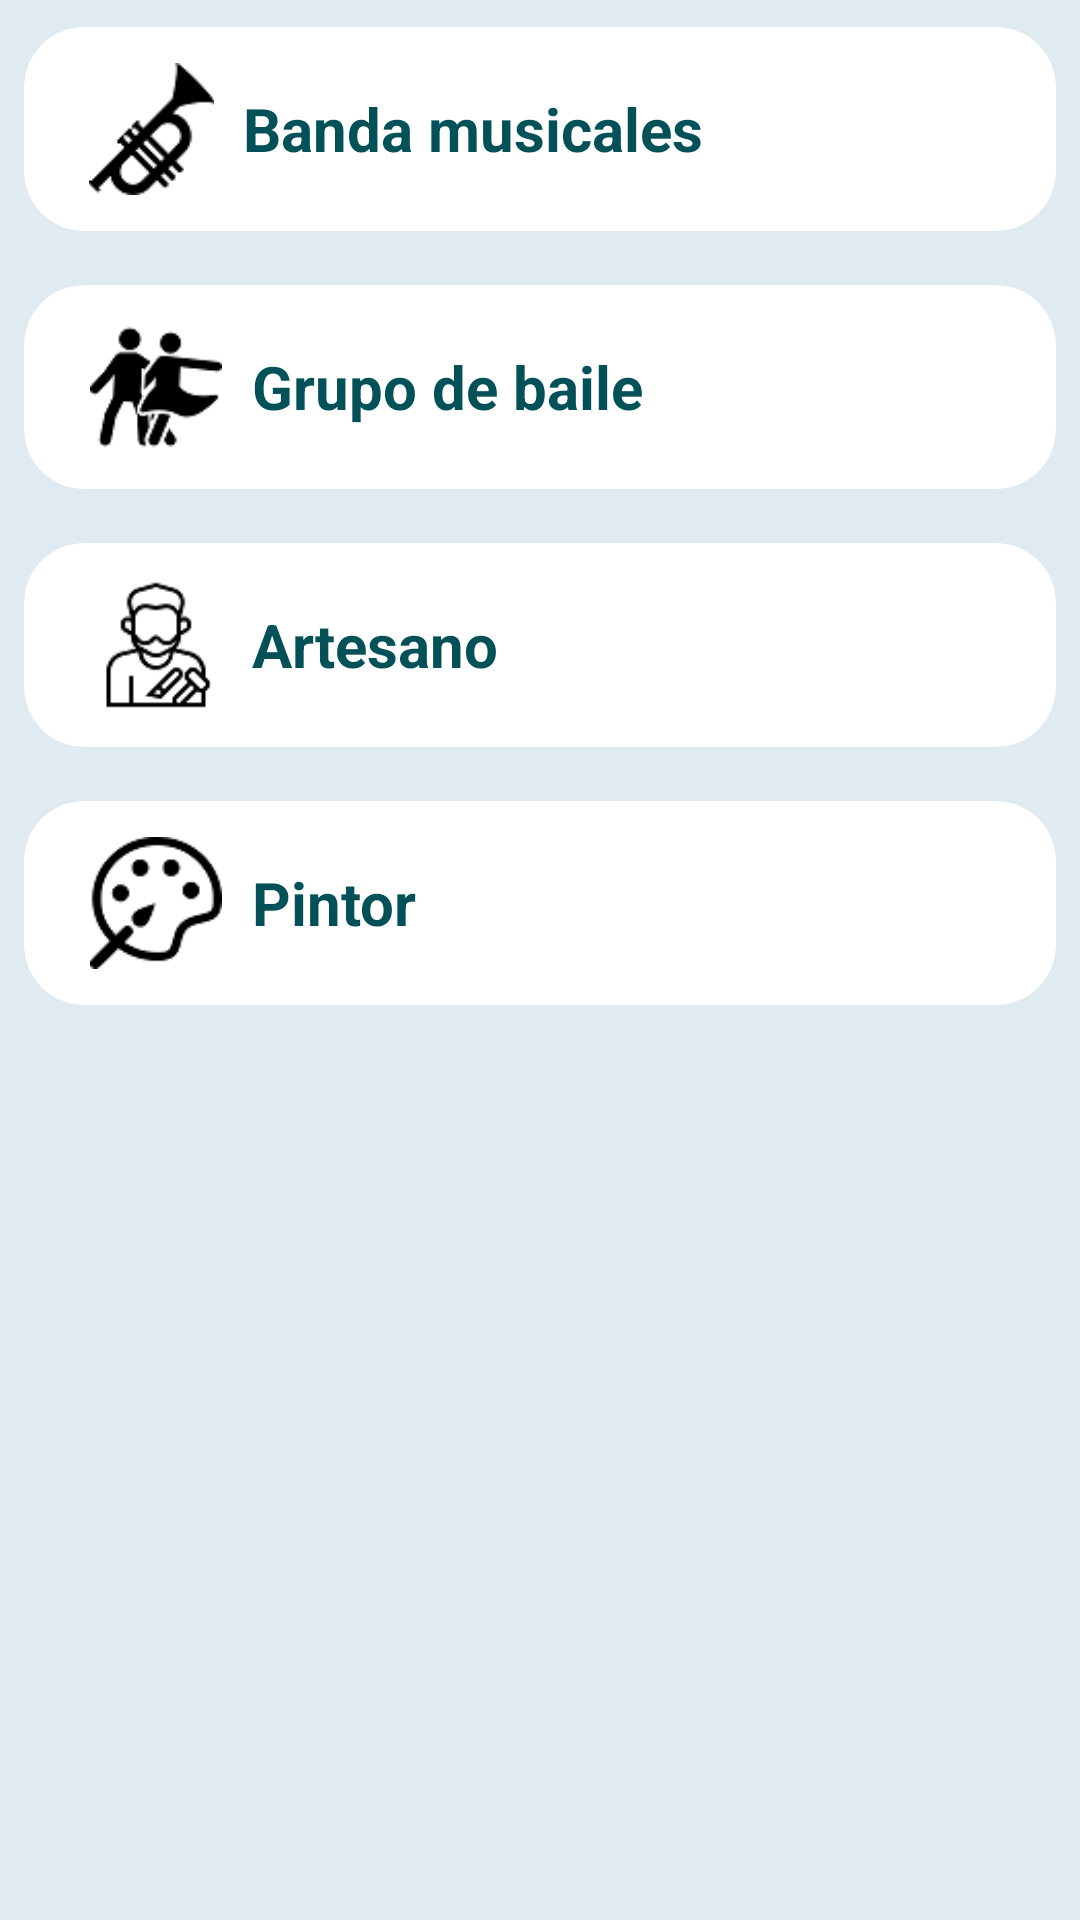

Named icons in this screenshot (1080w x 1920h) and their bounding boxes, (x1, y1, x2, y2):
craftsman: (106, 582, 211, 708)
dance: (90, 327, 222, 447)
paint: (90, 837, 222, 969)
trumpet: (89, 63, 214, 195)
